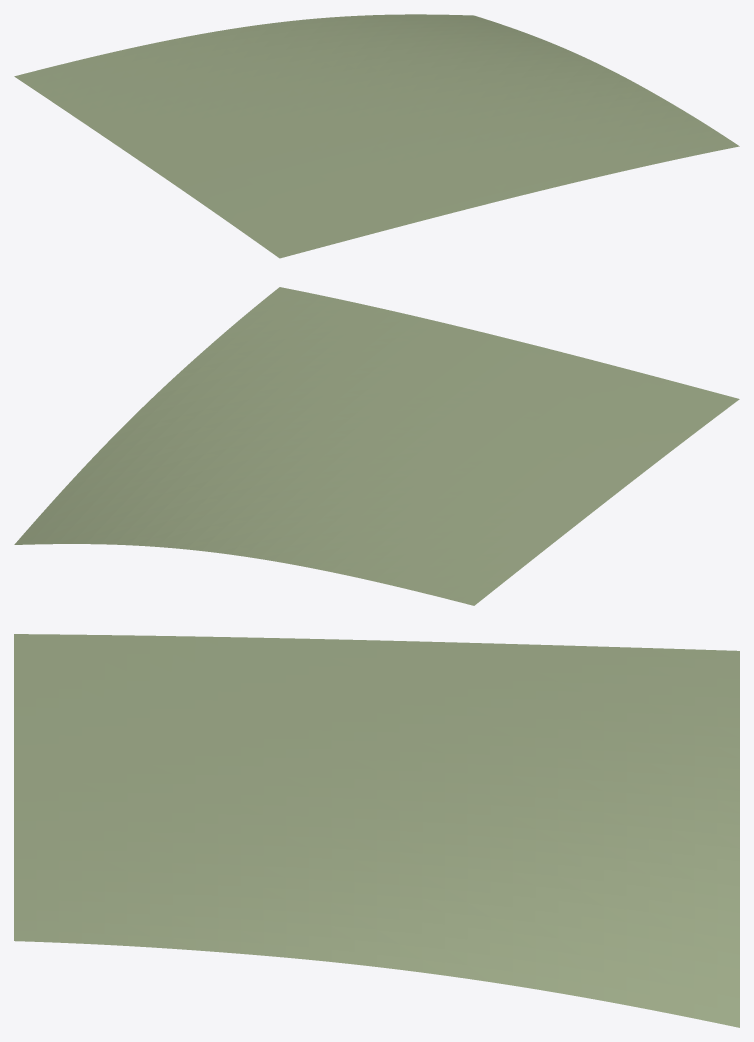
Rendered from expanse-9-12.glb.
3 views of the same model, one above another, from view 1: azimuth 30°, elevation 25°; view 2: azimuth 150°, elevation 25°; view 3: azimuth 270°, elevation 25° (orthographic). The views are drawn at different scales.
Visible parts, largest first — view 1: expanse-9-12; view 2: expanse-9-12; view 3: expanse-9-12.
Part boxes in pixels (x1,y1,x2,y2): expanse-9-12: (14, 14, 739, 258); expanse-9-12: (14, 287, 739, 605); expanse-9-12: (14, 634, 739, 1027).
Bounding box in the file's own units: 256 × 36.04 × 256.
